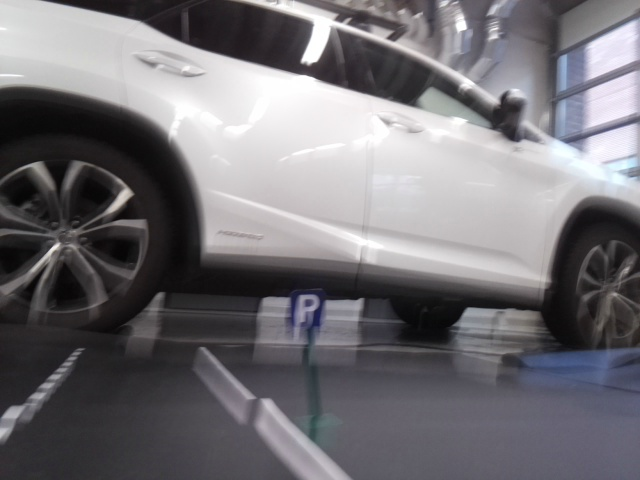Parking: (290, 289, 326, 330)
